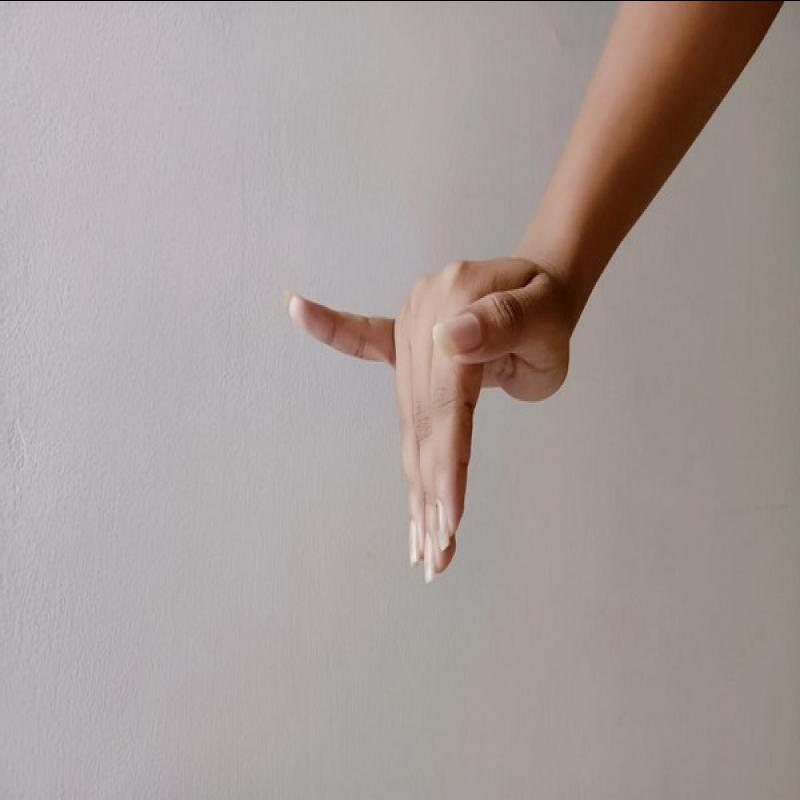Kartharee Mukham: (270, 232, 587, 601)
